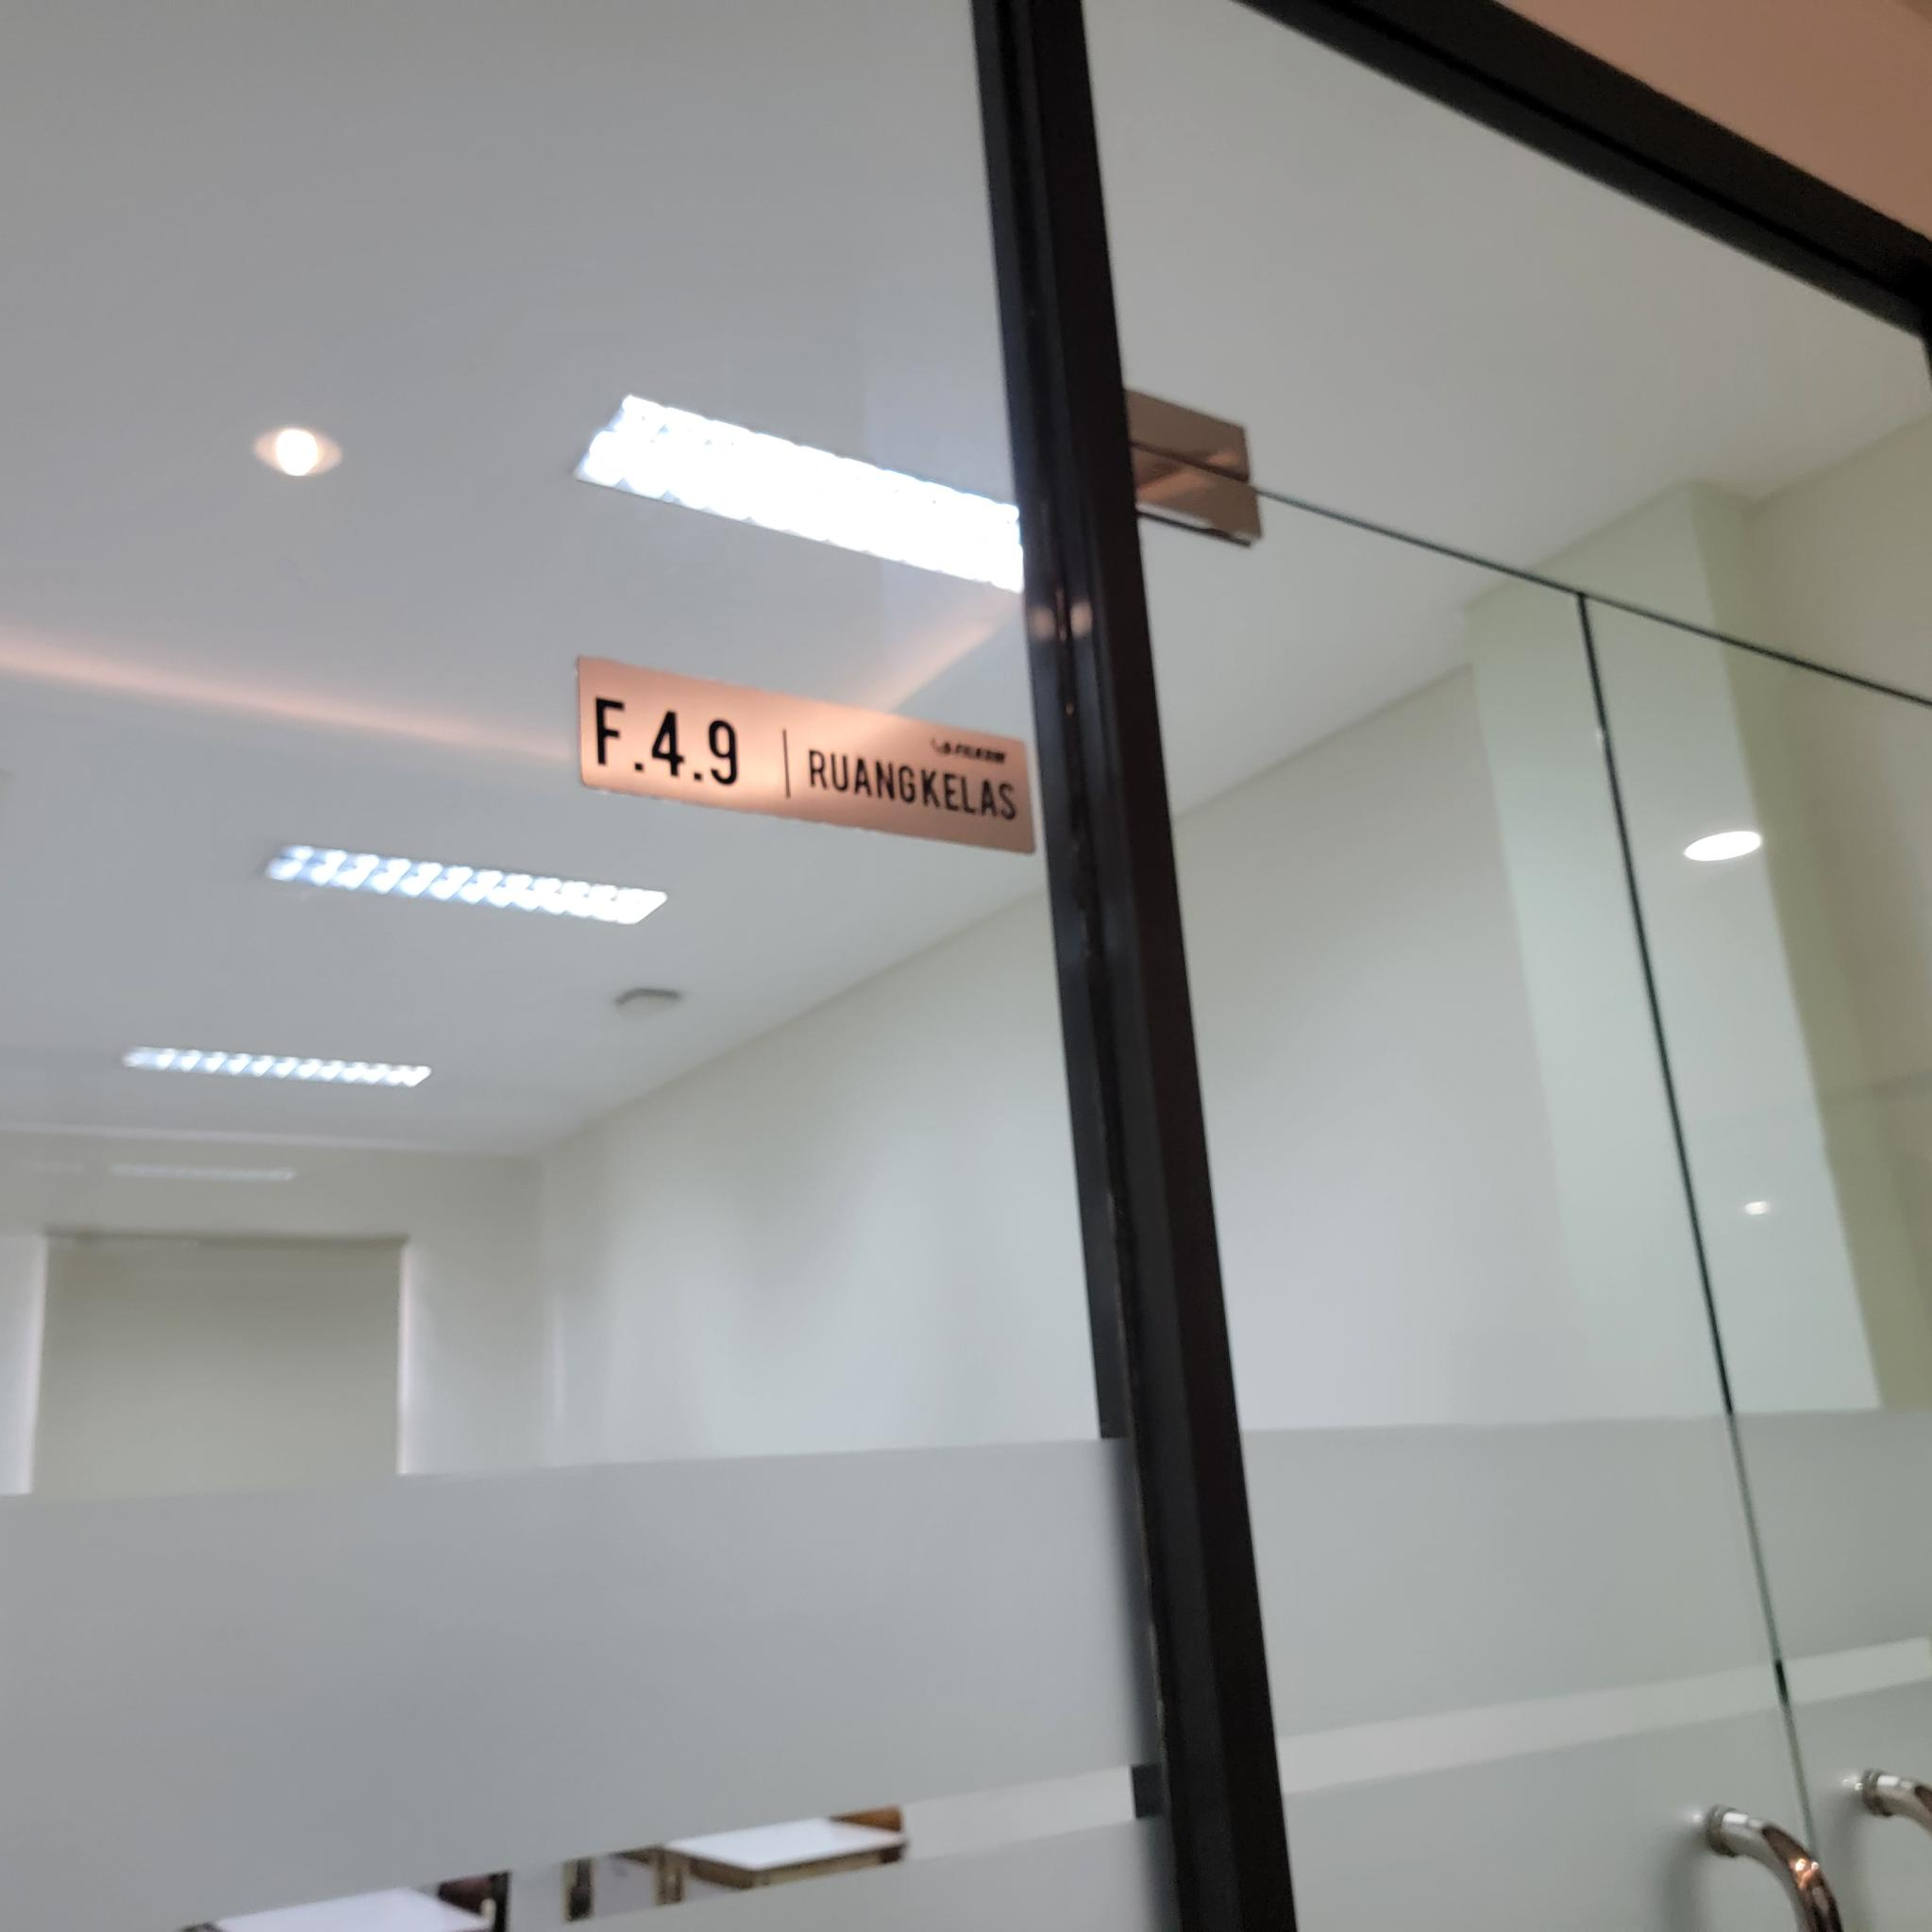plate: (579, 653, 1037, 856)
